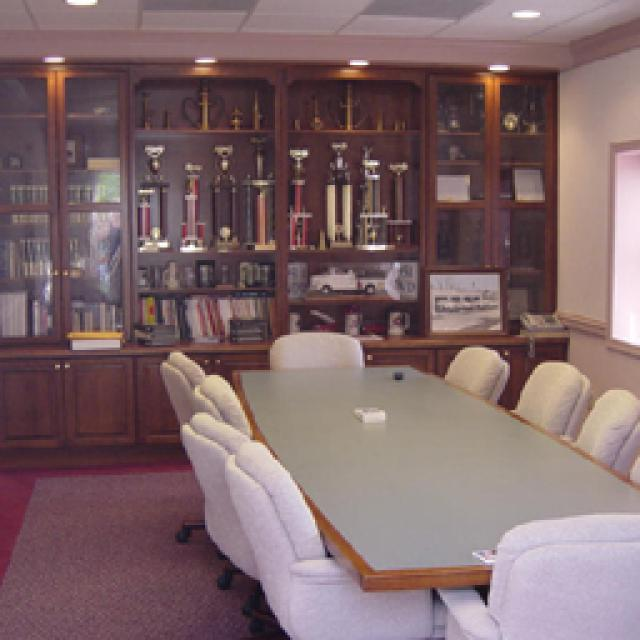2001: (608, 150, 635, 342)
books crop: (138, 292, 270, 338), (5, 180, 85, 225), (20, 235, 78, 272), (70, 298, 118, 325), (2, 288, 30, 330)
ceiling lamps: (505, 5, 542, 22), (65, 0, 92, 5)
chair: (508, 358, 588, 435), (568, 388, 638, 470), (438, 340, 505, 402), (265, 330, 360, 365)
chair -occluded-: (225, 438, 428, 635), (438, 515, 638, 635), (175, 410, 255, 575), (155, 350, 205, 422), (190, 372, 245, 428)
conference table: (232, 362, 635, 590)
display case: (132, 58, 275, 458), (0, 58, 132, 465), (428, 58, 565, 400), (282, 58, 430, 365)
kleenex: (350, 402, 382, 420)
phone charger: (518, 305, 565, 355)
picture occluded: (425, 265, 508, 332), (432, 170, 470, 200), (510, 165, 540, 198)
trophy: (350, 140, 390, 245), (242, 132, 272, 250), (205, 140, 238, 245), (135, 140, 168, 242), (280, 142, 310, 245), (322, 140, 352, 242), (382, 158, 412, 242), (175, 160, 202, 250)
